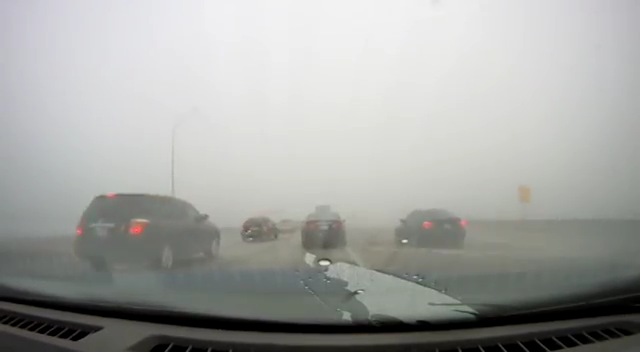car: (74, 192, 223, 270), (394, 208, 467, 248), (300, 211, 348, 248), (241, 216, 278, 243), (277, 218, 298, 233)
